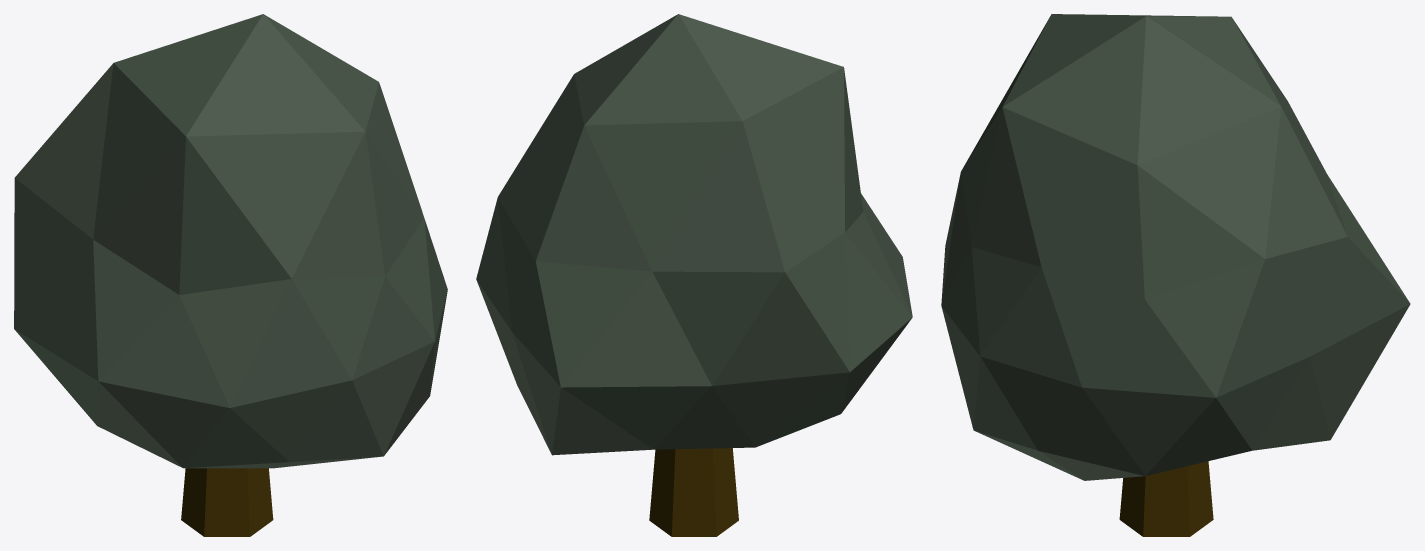
Rendered from ShrubC.fbx.
3 views of the same model, side by side, from view 1: azimuth 30°, elevation 25°; view 2: azimuth 150°, elevation 25°; view 3: azimuth 270°, elevation 25° (orthographic). The views are drawn at different scales.
Parts seen in each view (by area): view 1: SketchUp.003; view 2: SketchUp.003; view 3: SketchUp.003.
Boxes of the visible parts, x1,y1,x2,y2 form: SketchUp.003: (14, 14, 447, 536); SketchUp.003: (476, 14, 912, 536); SketchUp.003: (941, 14, 1410, 536).
Size of the model in its own units: 223 by 280 by 230.
